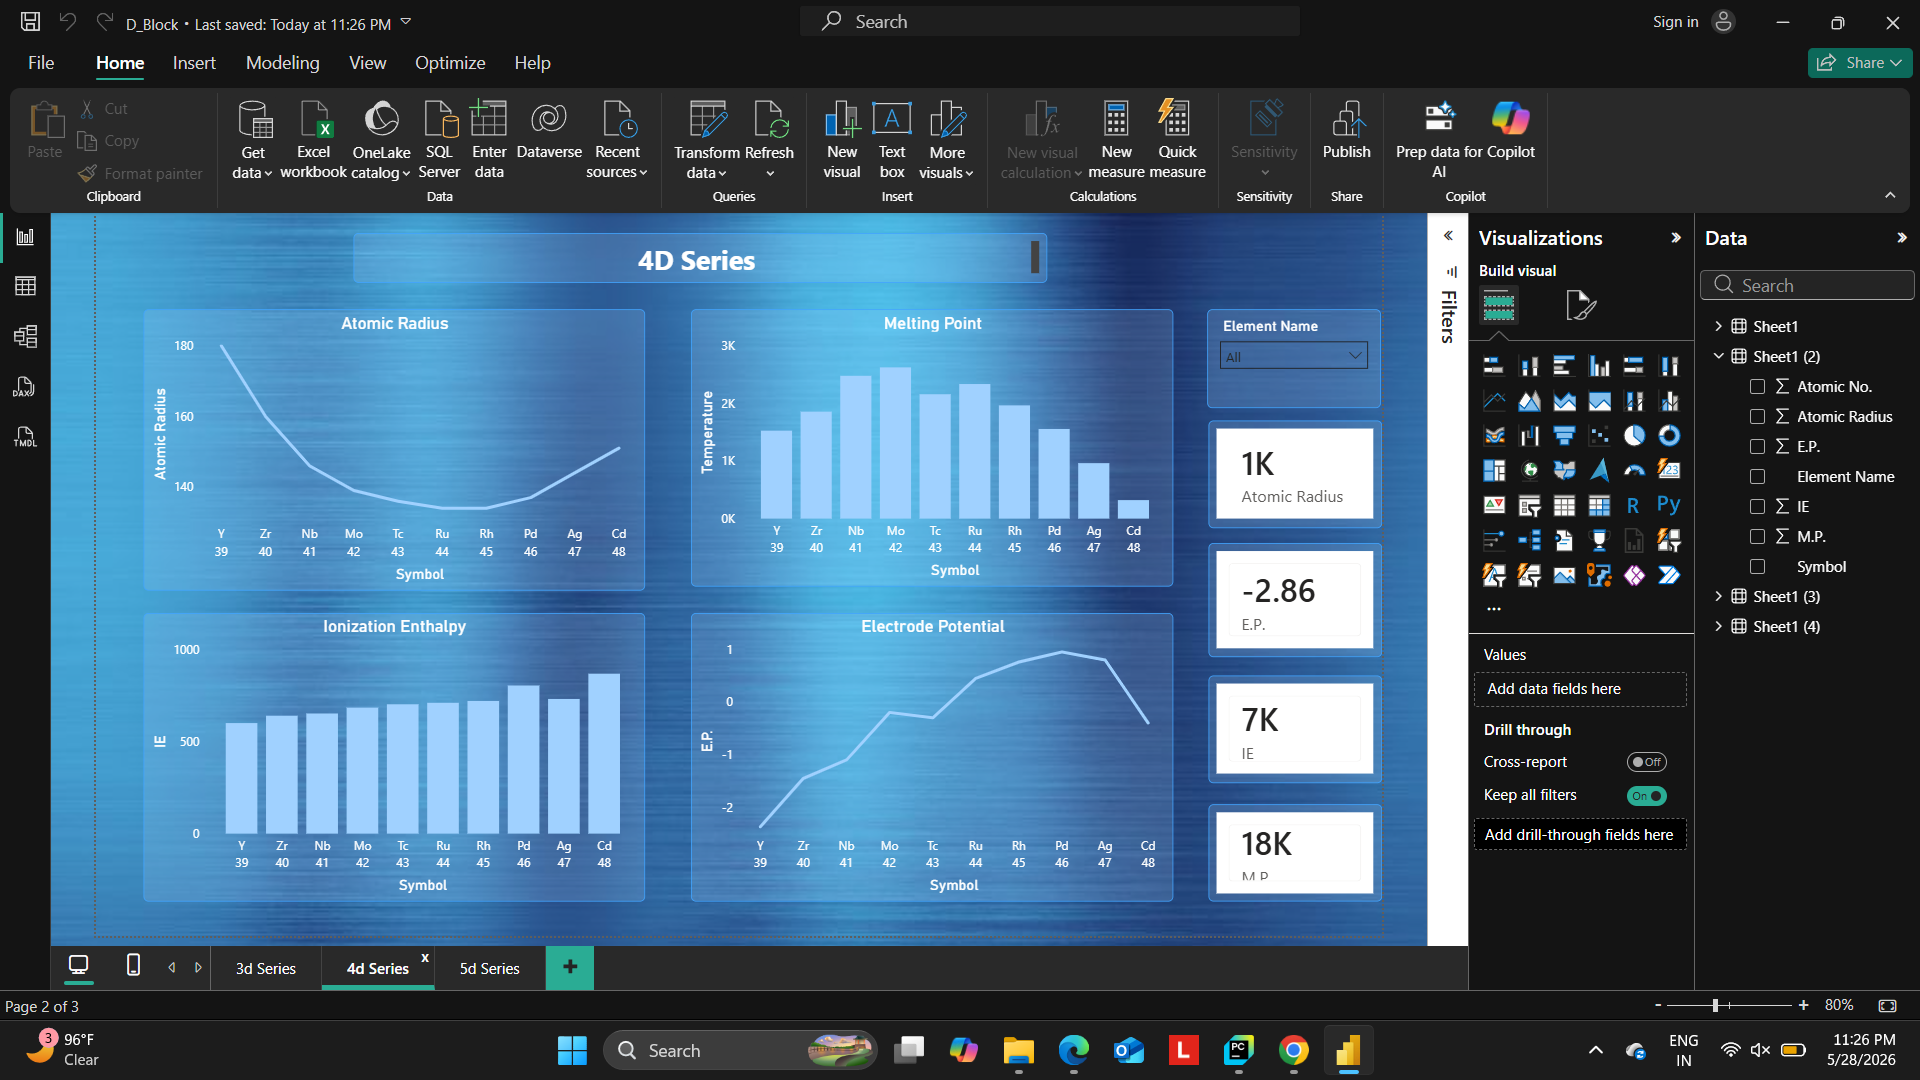

Layout of this report page (visuals, bound fields, positions):
{"tool":"powerbi","page":{"name":"4d Series","canvas":[1280,720],"ordinal":1},"visuals":[{"type":"lineChart","title":"Atomic Radius","fields":{"Category":["Sheet1 (3).Atomic No.","Sheet1 (3).Symbol"],"Y":["Sum(Sheet1 (3).Atomic Radius)"]},"box":[47.3,95.8,498.8,279.9],"z":0},{"type":"lineChart","title":"Electrode Potential","fields":{"Category":["Sheet1 (3).Atomic No.","Sheet1 (3).Symbol"],"Y":["Sum(Sheet1 (3).E.P.)"]},"box":[592.1,398.1,480.2,287.4],"z":1000},{"type":"clusteredColumnChart","title":"Ionization Enthalpy","fields":{"Category":["Sheet1 (3).Atomic No.","Sheet1 (3).Symbol"],"Y":["Sum(Sheet1 (3).IE)"]},"box":[47.3,398.1,498.8,287.4],"z":2000},{"type":"clusteredColumnChart","title":"Melting Point","fields":{"Category":["Sheet1 (3).Atomic No.","Sheet1 (3).Symbol"],"Y":["Sum(Sheet1 (3).M.P.)"]},"box":[592.1,95.8,480.2,276.2],"z":3000},{"type":"cardVisual","fields":{"Data":["Sum(Sheet1 (3).E.P.)"]},"box":[1107.1,328.4,172.9,113.2],"z":4000},{"type":"cardVisual","fields":{"Data":["Sum(Sheet1 (3).Atomic Radius)"]},"box":[1107.1,206.5,172.9,107],"z":5000},{"type":"slicer","fields":{"Values":["Sheet1 (3).Element Name"]},"box":[1105.9,95.8,172.9,98.3],"z":6000},{"type":"cardVisual","fields":{"Data":["Sum(Sheet1 (3).IE)"]},"box":[1107.1,460.3,172.9,107],"z":7000},{"type":"cardVisual","fields":{"Data":["Sum(Sheet1 (3).M.P.)"]},"box":[1107.1,588.4,172.9,97],"z":8000},{"type":"textbox","box":[256.3,19.9,690.4,49.8],"z":9000}]}

Visuals, with their boxes on the page's 1280x720 design canvas (x1, y1, x2, y2). These are canvas units, not pixel positions in the 1920x1080 screenshot, which may show the page scaled, cropped or inside an application window:
"Atomic Radius" lineChart: x1=47 y1=96 x2=546 y2=376
"Electrode Potential" lineChart: x1=592 y1=398 x2=1072 y2=686
"Ionization Enthalpy" clusteredColumnChart: x1=47 y1=398 x2=546 y2=686
"Melting Point" clusteredColumnChart: x1=592 y1=96 x2=1072 y2=372
cardVisual - Sum(Sheet1 (3).E.P.): x1=1107 y1=328 x2=1280 y2=442
cardVisual - Sum(Sheet1 (3).Atomic Radius): x1=1107 y1=206 x2=1280 y2=314
slicer - Sheet1 (3).Element Name: x1=1106 y1=96 x2=1279 y2=194
cardVisual - Sum(Sheet1 (3).IE): x1=1107 y1=460 x2=1280 y2=567
cardVisual - Sum(Sheet1 (3).M.P.): x1=1107 y1=588 x2=1280 y2=685
textbox: x1=256 y1=20 x2=947 y2=70
